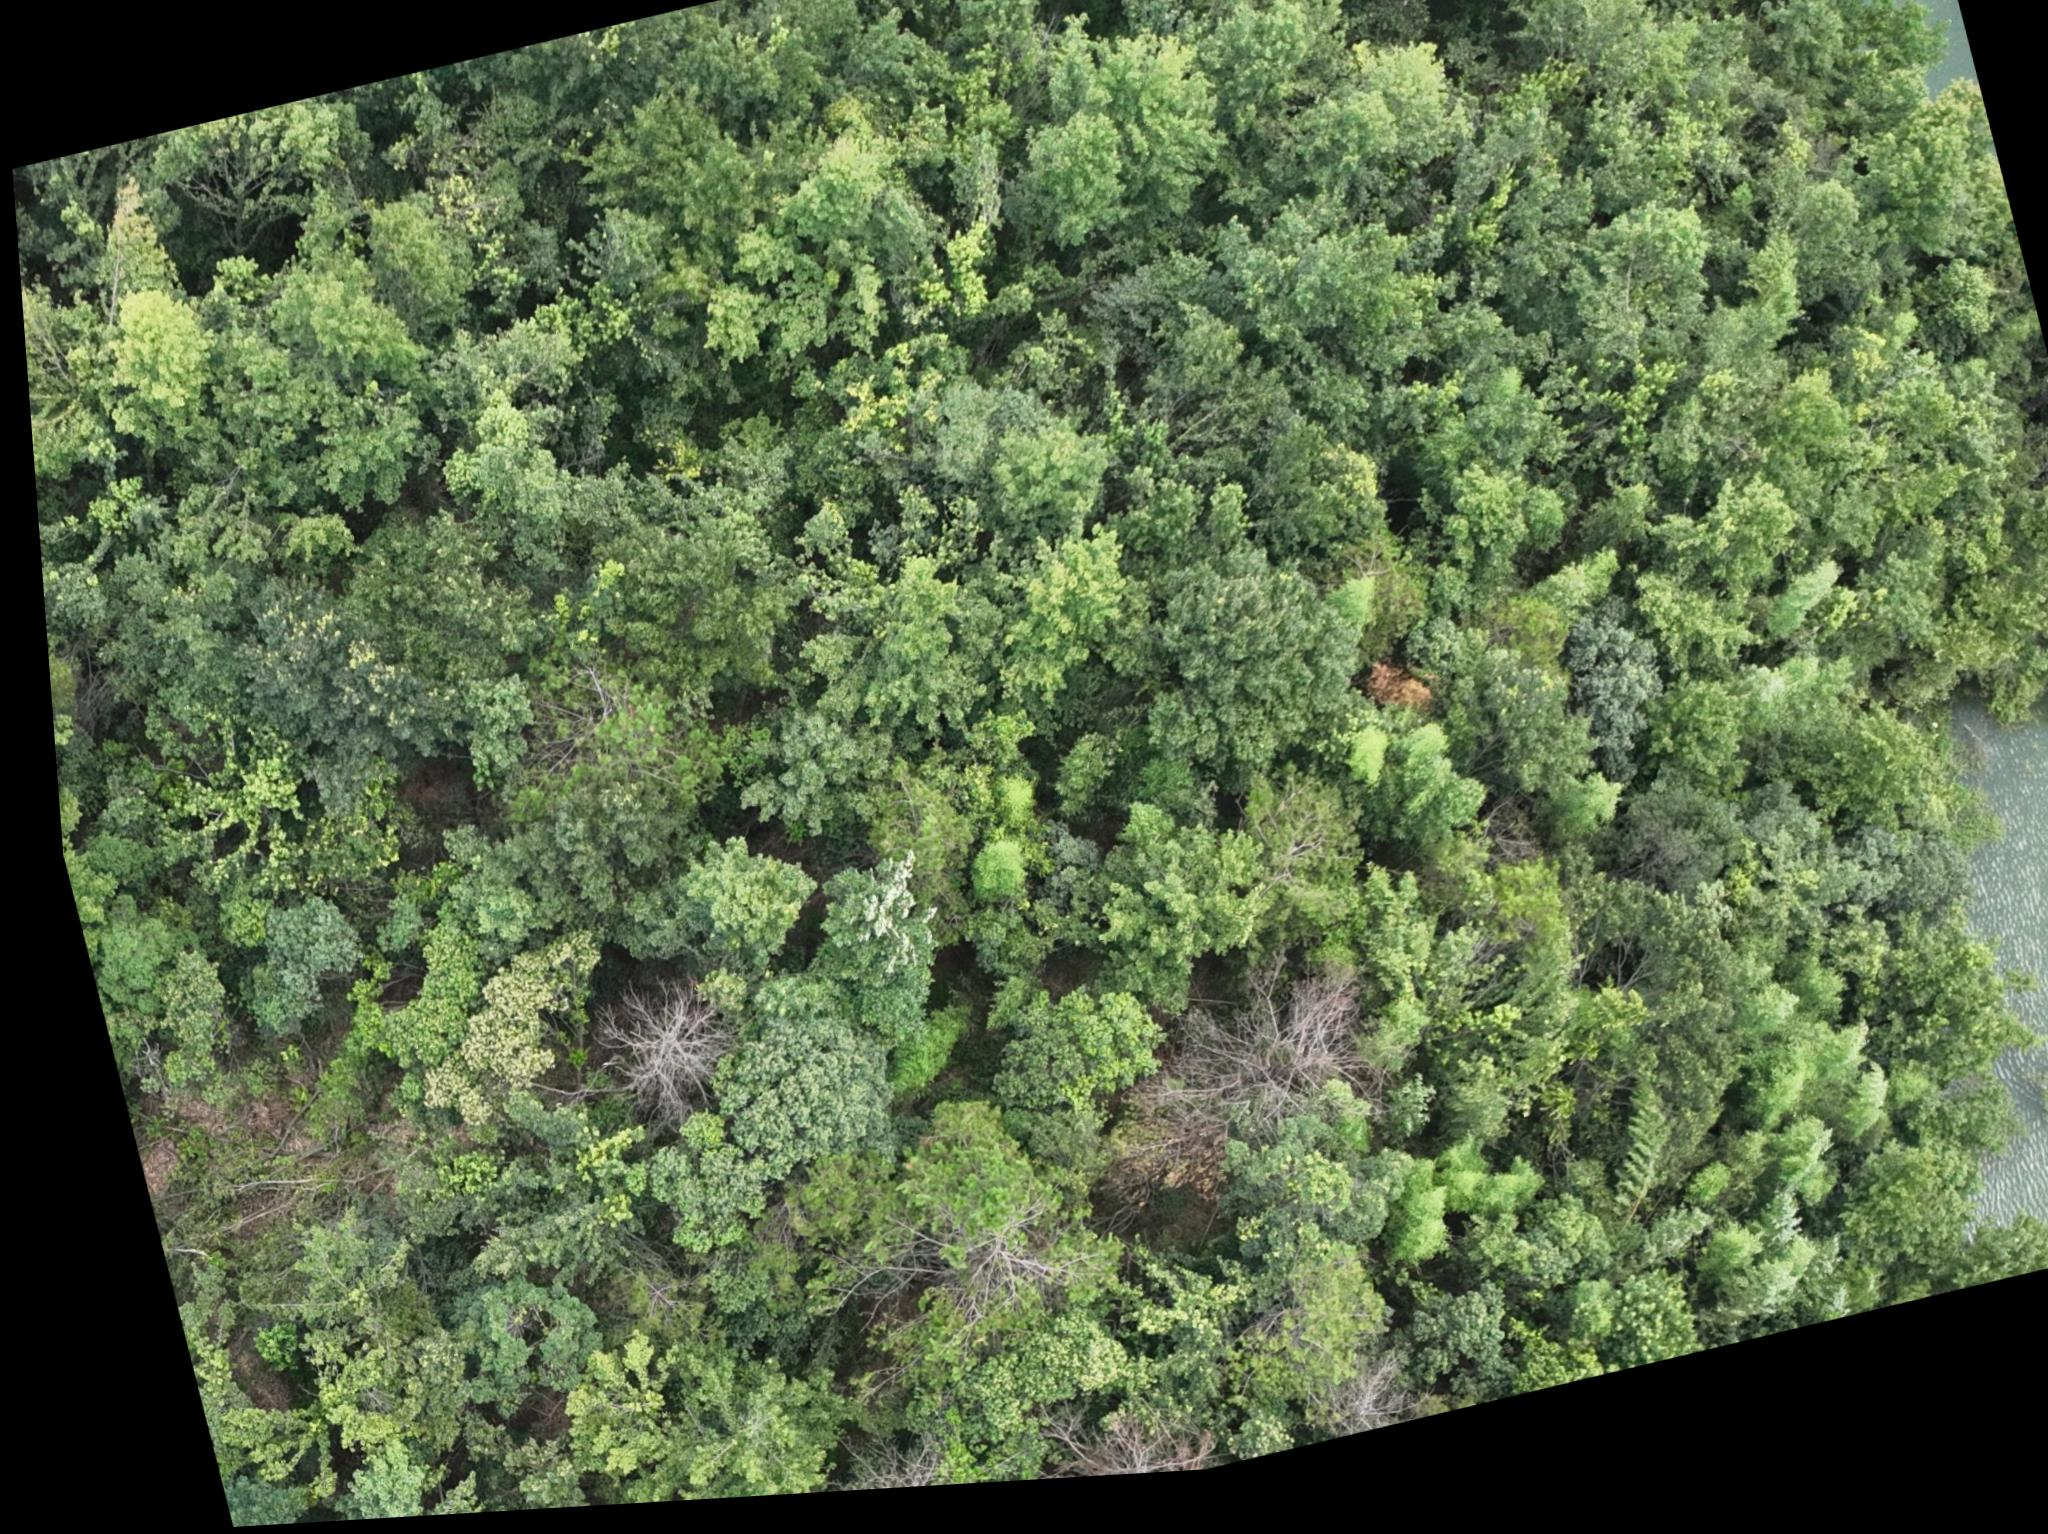dead: (1121, 978, 1365, 1160), (564, 978, 735, 1150), (1004, 1383, 1186, 1490), (757, 1428, 920, 1503)
